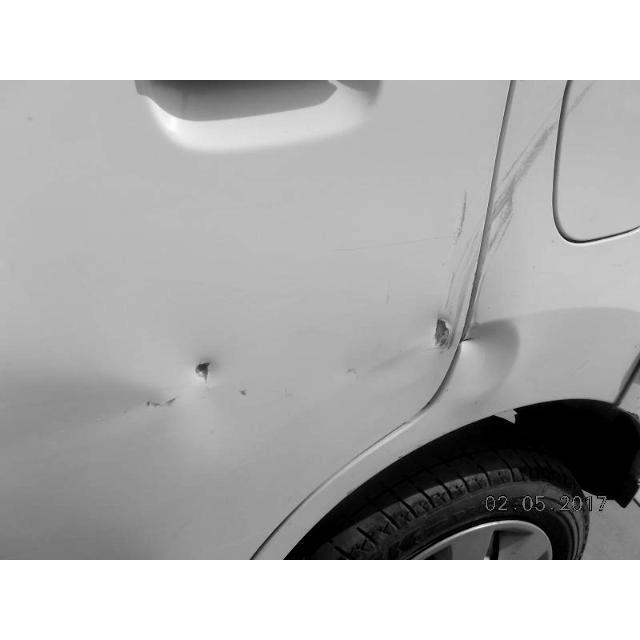doorouter-dent: (95, 281, 456, 474)
quaterpanel-dent: (427, 303, 538, 422)
